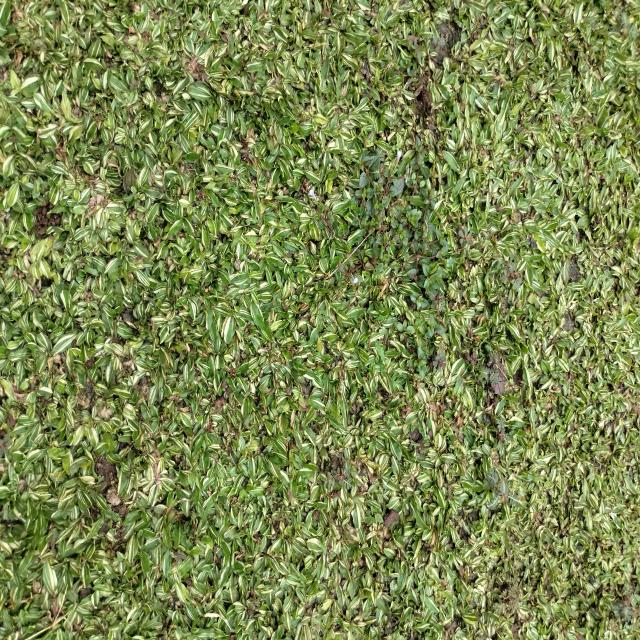buah daun: (484, 460, 528, 514), (613, 575, 638, 626), (324, 456, 353, 493), (501, 253, 525, 294), (477, 350, 502, 388), (505, 576, 523, 613), (428, 283, 449, 312), (620, 10, 639, 42), (457, 224, 476, 253), (493, 414, 508, 445), (432, 345, 448, 372), (431, 35, 447, 57)
ungu tunggang: (358, 132, 449, 285), (308, 188, 336, 233), (422, 311, 444, 340), (395, 318, 416, 343), (408, 288, 430, 310)
